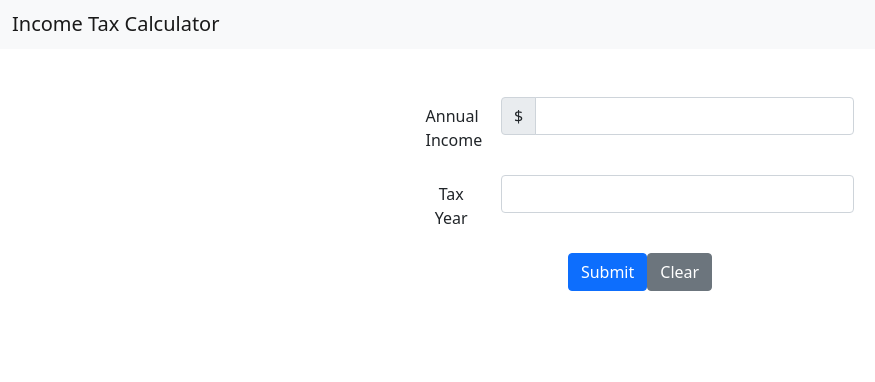
Testing Dashboard › Invalid input scenarios › Empty income field
The width and height of the screenshot is (875, 382).
Type "2017" into the field with id "year" at (678, 194), box [501,175,855,213]
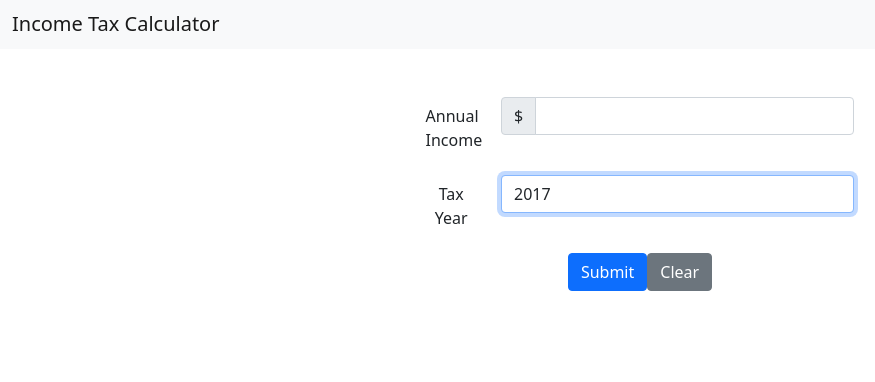
Click the button with id "submit" at (608, 272), box [568,253,647,291]
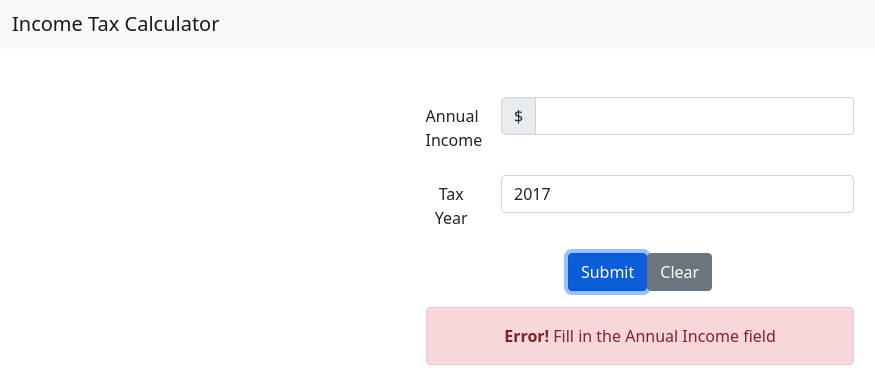
Expected: the text "Fill in the Annual Income field" is shown, [553,325,775,347]
